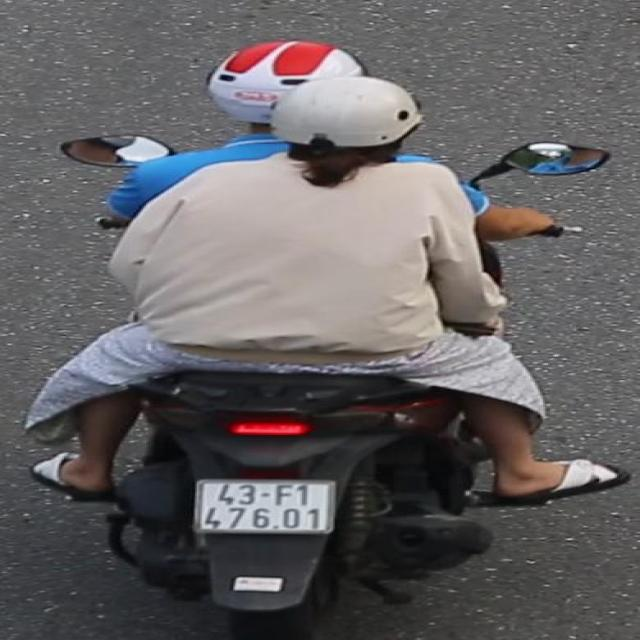LP: (192, 472, 343, 538)
helmet: (276, 73, 430, 184), (200, 36, 368, 113)
